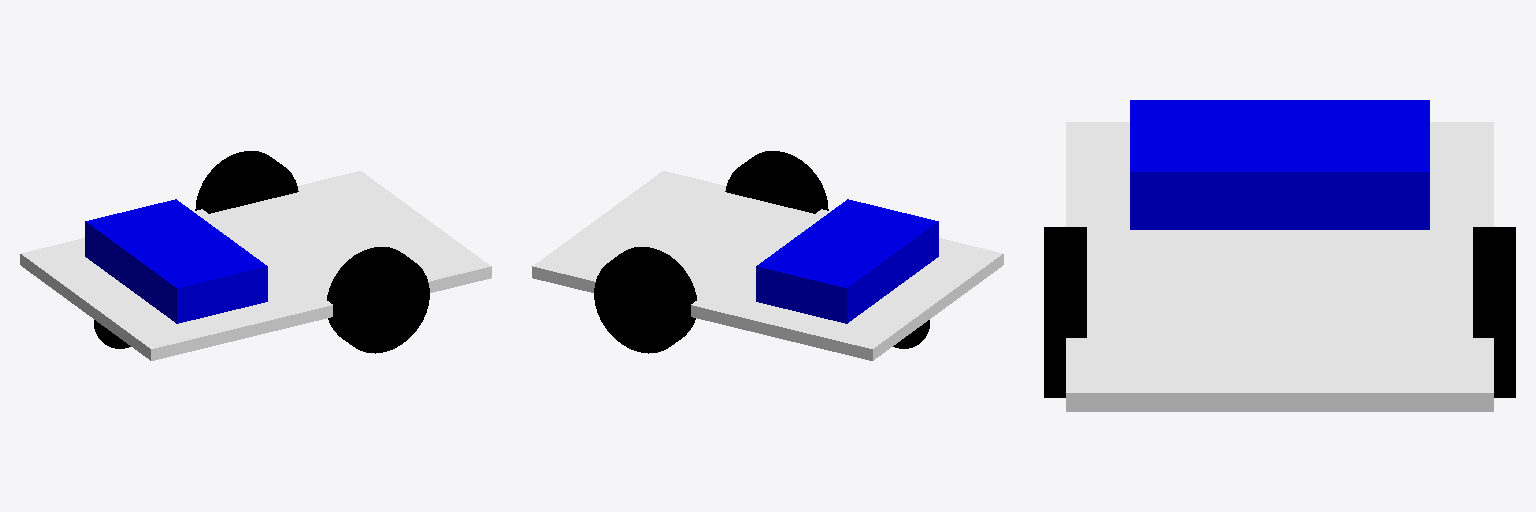
robot.urdf — litebot:
<?xml version="1.0" ?>
<robot name="litebot">

    <link name="base_footprint">
        <visual>
            <origin rpy="0 0 0" xyz="0 0 0"/>
            <geometry>
                <box size="0.001 0.001 0.001"/>
            </geometry>
        </visual>
    </link>

    <joint name="base_footprint_joint" type="fixed">
        <origin rpy="0 0 0" xyz="0 0 0.04"/>
        <parent link="base_footprint"/>
        <child link="base_link"/>
    </joint>

    <!-- BASE-LINK -->
    <!--Actual body/chassis of the robot-->
    <link name="base_link">
        <visual>
            <origin rpy="0 0 0" xyz="0 0 0"/>
            <geometry>
                <box size="0.3 0.2 0.01"/>
            </geometry>
            <material name="white">
                <color rgba="1 1 1 1"/>
            </material>
        </visual>
    </link>

    <!--Caster back  -->
    <link name="caster_link">
        <visual>
            <origin rpy="0 0 0" xyz="0 0 0 "/>
            <geometry>
                <sphere radius="0.02"/>
            </geometry>
            <material name="black">
                <color rgba="0 0 0 1"/>
            </material>
        </visual>
    </link>

    <joint name="base_to_caster_joint" type="fixed">
        <parent link="base_link"/>
        <child link="caster_link"/>
        <origin rpy="0 0 0" xyz="-0.12 0 -0.02"/>
    </joint>

    <!-- Wheel Definitions -->
    <link name="wheel_right_link">
        <visual>
            <origin rpy="1.5708 0  0 " xyz="0 0 0"/>
            <geometry>
                <cylinder length="0.02" radius="0.04"/>
            </geometry>
            <material name="black">
                <color rgba="0 0 0 1"/>
            </material>
        </visual>
    </link>

    <joint name="base_to_wheel_right_joint" type="continuous">
        <parent link="base_link"/>
        <child link="wheel_right_link"/>
        <origin rpy="0 0 0" xyz="0.05 0.1 0"/>
        <axis rpy="0 0 0" xyz="0 1 0"/>
    </joint>

    <link name="wheel_left_link">
        <visual>
            <origin rpy="1.5708 0  0 " xyz="0 0 0"/>
            <geometry>
                <cylinder length="0.02" radius="0.04"/>
            </geometry>
            <material name="black">
                <color rgba="0 0 0 1"/>
            </material>
        </visual>
    </link>

    <joint name="base_to_wheel_left_joint" type="continuous">
        <parent link="base_link"/>
        <child link="wheel_left_link"/>
        <origin rpy="0 0 0" xyz="0.05 -0.1 0"/>
        <axis rpy="0 0 0" xyz="0 1 0"/>
    </joint>

    <link name="controller_link">
        <visual>
            <geometry>
                <box size="0.08 0.14 0.03"/>
            </geometry>
            <origin rpy="0 0 0" xyz="0 0 0"/>
            <material name="blue">
                <color rgba="0 0 1 1"/>
            </material>
        </visual>
    </link>

    <joint name="base_to_controller_joint" type="fixed">
        <parent link="base_link"/>
        <child link="controller_link"/>
        <origin rpy="0 0 0" xyz="-0.07 0 0.02"/>
        <axis rpy="0 0 0" xyz="0 0 0"/>
    </joint>

</robot>

--- Render facts (derived) ---
Views: 3 orthographic renders of the robot side by side, from view 1: azimuth 30°, elevation 25°; view 2: azimuth 150°, elevation 25°; view 3: azimuth 270°, elevation 25°.
Robot: litebot — 6 links, 5 joints (2 continuous, 3 fixed); root link base_footprint; default pose: all joints at 0.
Visible links, largest first — view 1: base_link, controller_link, wheel_left_link, wheel_right_link; view 2: base_link, controller_link, wheel_right_link, wheel_left_link; view 3: base_link, controller_link, wheel_right_link, wheel_left_link.
Boxes of the visible links, x1,y1,x2,y2 form: base_link: [20, 171, 491, 360]; controller_link: [85, 199, 267, 323]; wheel_left_link: [327, 247, 429, 353]; wheel_right_link: [195, 151, 298, 213]; base_link: [532, 171, 1003, 360]; controller_link: [756, 199, 938, 323]; wheel_right_link: [594, 247, 696, 353]; wheel_left_link: [725, 151, 828, 213]; base_link: [1066, 122, 1493, 411]; controller_link: [1130, 100, 1429, 229]; wheel_right_link: [1473, 227, 1515, 397]; wheel_left_link: [1044, 227, 1086, 397].
Bounding box of the posed robot: 0.3 × 0.22 × 0.0805 m (x, y, z).
Geometry: primitives only (box / cylinder / sphere), no mesh files.